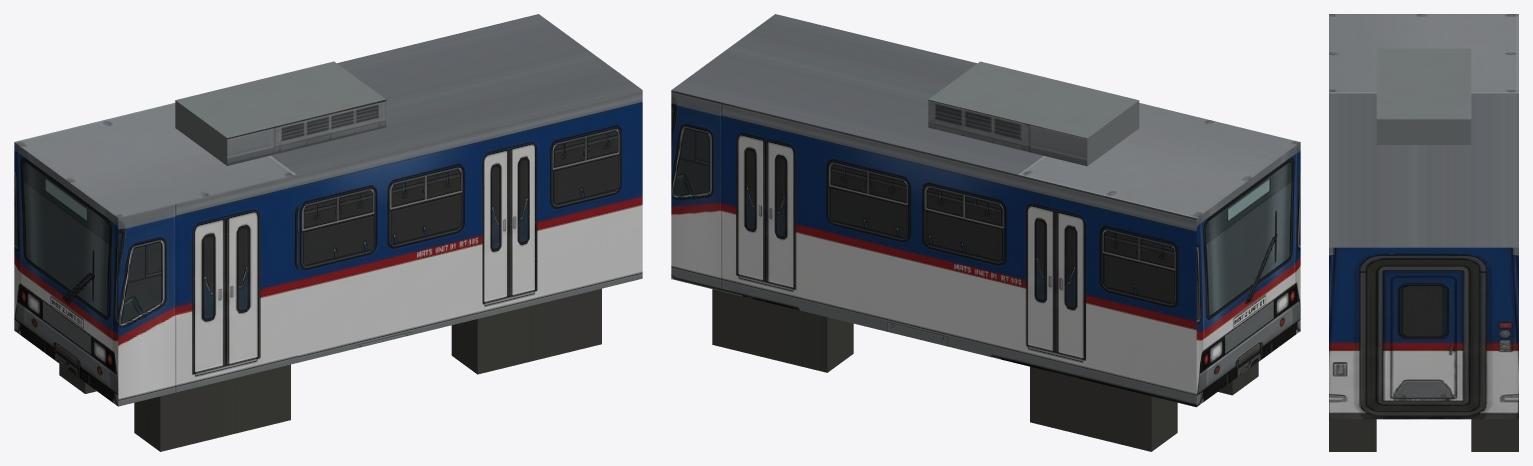
The model's file is MRT3.fbx.
3 views of the same model, side by side, from view 1: azimuth 30°, elevation 25°; view 2: azimuth 150°, elevation 25°; view 3: azimuth 270°, elevation 25° (orthographic). The views are drawn at different scales.
Parts seen in each view (by area): view 1: Cube; view 2: Cube; view 3: Cube.
Part boxes in pixels (x1,y1,x2,y2): Cube: (14, 14, 642, 451); Cube: (671, 14, 1300, 451); Cube: (1329, 14, 1518, 451).
Size of the model in its own units: 935 by 463 by 321.
Materials: 1 (1 with a texture image).
